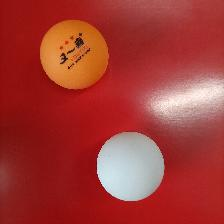WhiteBall: (96, 132, 164, 200)
YellowBall: (39, 19, 109, 89)
